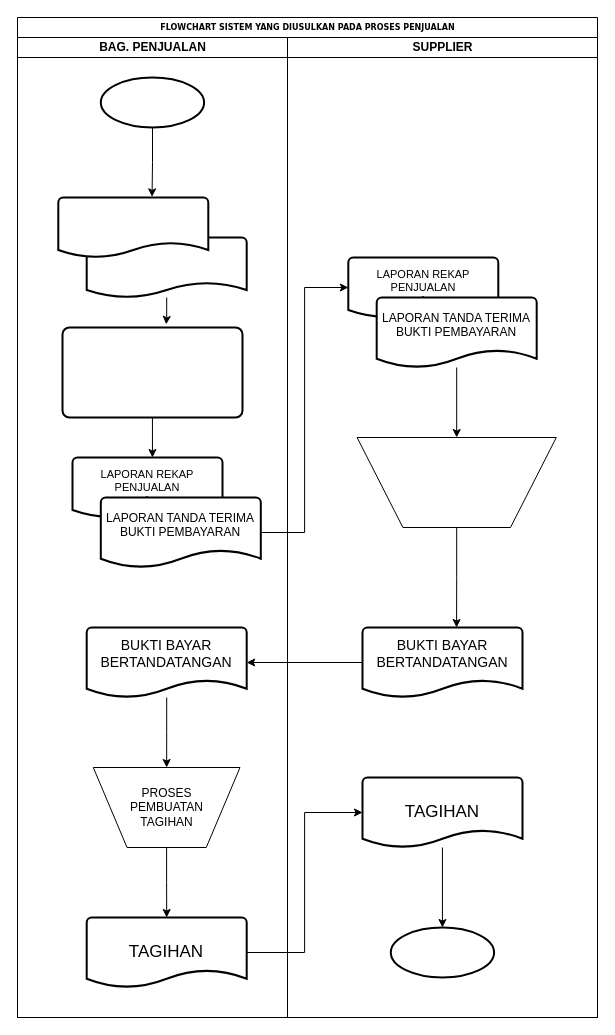
Image size: 615x1035. Some labels were removed from this diagram. Here are the shapes that lost their labels. From the top down, the centre of each, then its label:
pixel 152 102: START
pixel 133 227: TANDA TERIMA BUKTI PEMBAYARAN
pixel 166 267: REKAP PENJUALAN
pixel 152 372: MEMBUAT LAPORAN REKAP DAN TANDA TERIMA BUKTI PEMBAYARAN
pixel 456 482: MENANDATANGANI BUKTI PEMBAYARAN
pixel 442 952: END
